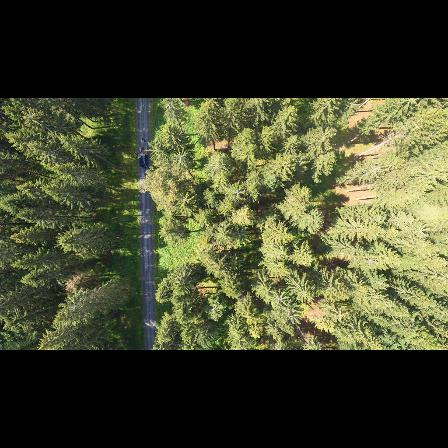Sick: (224, 178, 251, 203), (173, 186, 197, 213), (169, 144, 192, 168), (269, 288, 290, 312)
